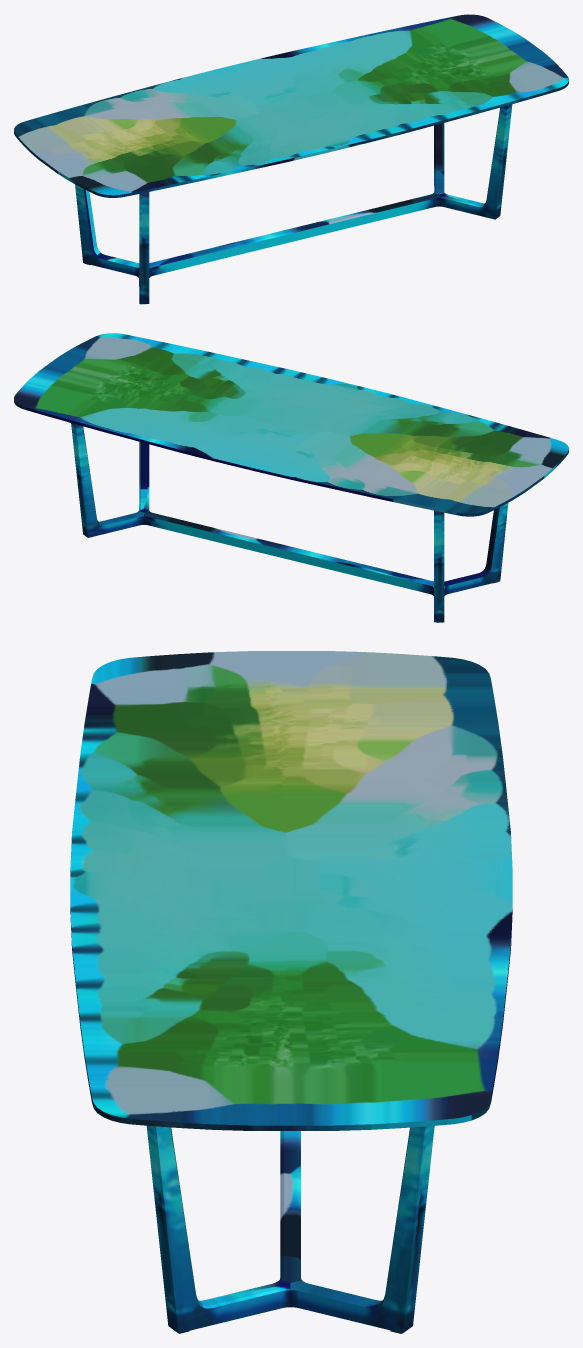
Rendered from edited_mesh.glb.
3 renders of one model, top to bottom at view 1: azimuth 30°, elevation 25°; view 2: azimuth 150°, elevation 25°; view 3: azimuth 270°, elevation 25°, orthographic. The views are drawn at different scales.
Parts seen in each view (by area): view 1: normalized_model.obj; view 2: normalized_model.obj; view 3: normalized_model.obj.
Part boxes in pixels (left/top/right/bottom): normalized_model.obj: left=14, top=14, right=568, bottom=304; normalized_model.obj: left=14, top=333, right=568, bottom=622; normalized_model.obj: left=70, top=651, right=512, bottom=1333.
Bounding box in the file's own units: 2 × 0.5321 × 0.7873.
Materials: 1 (1 with a texture image).
